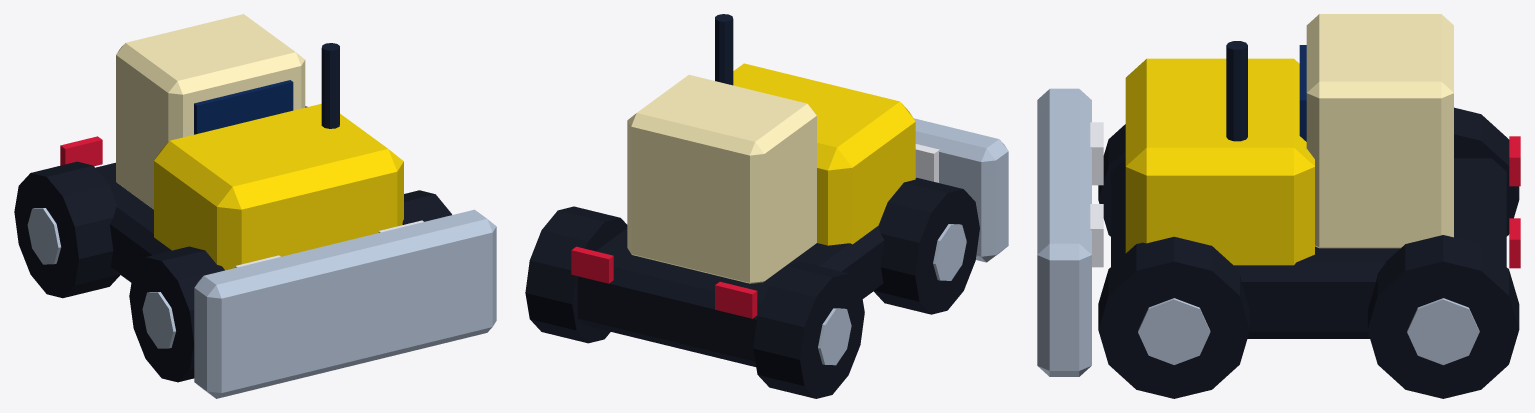
The model's file is dozer.glb.
3 renders of one model, left to right at view 1: azimuth 30°, elevation 25°; view 2: azimuth 150°, elevation 25°; view 3: azimuth 270°, elevation 25°, orthographic. The views are drawn at different scales.
Visible parts, largest first — view 1: Chassis, WheelRearL, WheelFrontL, WheelFrontR; view 2: Chassis, WheelRearL, WheelFrontL, WheelRearR; view 3: Chassis, WheelRearR, WheelFrontR, WheelRearL, WheelFrontL.
Boxes of the visible parts, x1=… form: Chassis: x1=60, y1=14, x2=496, y2=398; WheelRearL: x1=14, y1=161, x2=120, y2=298; WheelFrontL: x1=129, y1=246, x2=224, y2=382; WheelFrontR: x1=402, y1=190, x2=451, y2=224; Chassis: x1=571, y1=14, x2=1008, y2=366; WheelRearL: x1=753, y1=262, x2=864, y2=398; WheelFrontL: x1=873, y1=178, x2=979, y2=314; WheelRearR: x1=525, y1=206, x2=627, y2=343; Chassis: x1=1037, y1=14, x2=1520, y2=376; WheelRearR: x1=1367, y1=235, x2=1519, y2=398; WheelFrontR: x1=1098, y1=236, x2=1249, y2=398; WheelRearL: x1=1454, y1=107, x2=1519, y2=236; WheelFrontL: x1=1098, y1=124, x2=1125, y2=236.
Bounding box in the file's own units: 0.93 × 0.81 × 1.15.
